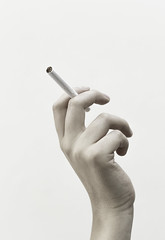cigarette: (42, 63, 92, 114)
